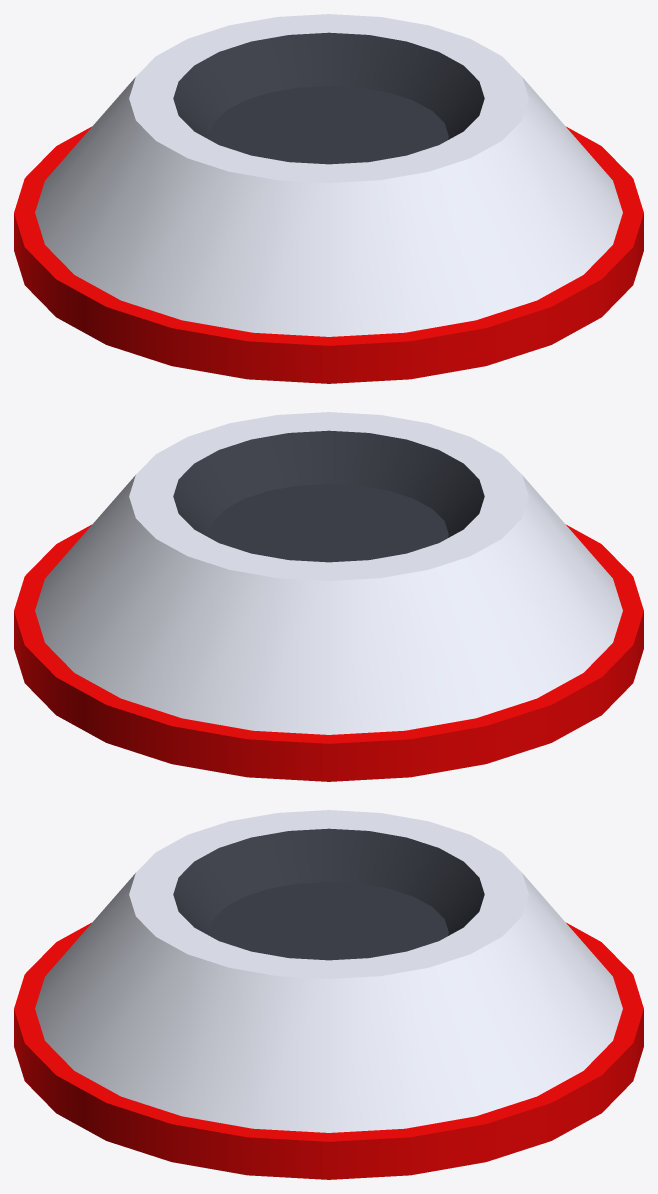
File: LaserEmitter.fbx
3 views of the same model, one above another, from view 1: azimuth 30°, elevation 25°; view 2: azimuth 150°, elevation 25°; view 3: azimuth 270°, elevation 25° (orthographic).
Visible parts, largest first — view 1: mergedBlocks; view 2: mergedBlocks; view 3: mergedBlocks.
Part boxes in pixels (left/top/right/bottom): mergedBlocks: left=14, top=14, right=643, bottom=383; mergedBlocks: left=14, top=412, right=643, bottom=781; mergedBlocks: left=14, top=810, right=643, bottom=1179.
Bounding box in the file's own units: 3 × 0.8 × 3.
